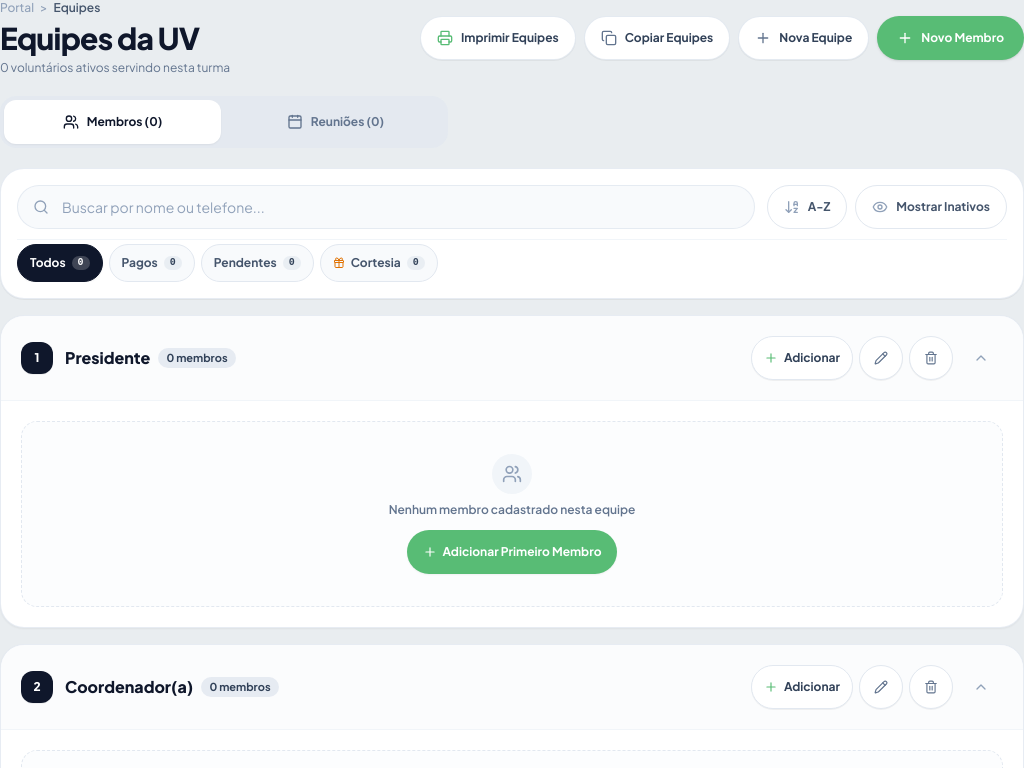
Test: TeamsPage › deve abrir o modal de novo membro ao clicar em "Novo Membro"
The image size is (1024, 768).
Expected: the text "Novo Membro da Equipe" is not shown
Note: Clicar no botão "Novo Membro"
Click the button "Novo Membro": x=951, y=38 x1=877 y1=16 x2=1023 y2=60
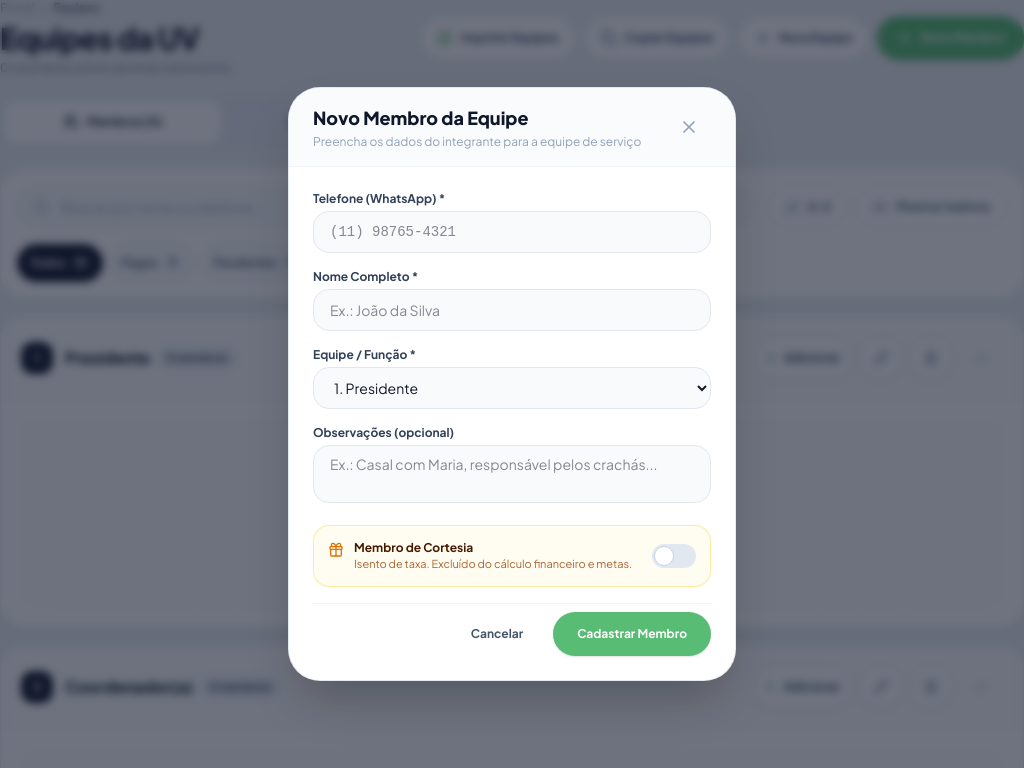
Now the heading "Novo Membro da Equipe" is shown, box x1=313 y1=106 x2=528 y2=129
